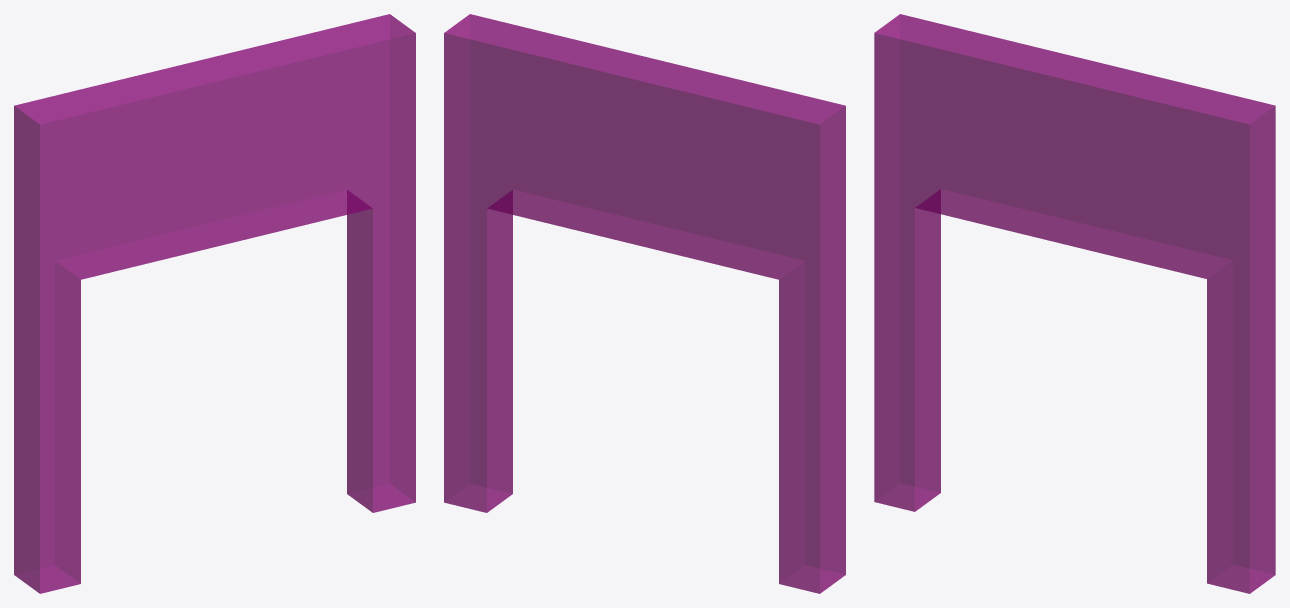
File: SM_Bld_Base_Wall_Door_Double_01_Collision.fbx
3 renders of one model, left to right at view 1: azimuth 30°, elevation 25°; view 2: azimuth 150°, elevation 25°; view 3: azimuth 330°, elevation 25°, orthographic.
Parts seen in each view (by area): view 1: SM_Bld_Base_Wall_Door_Double_01_Collision; view 2: SM_Bld_Base_Wall_Door_Double_01_Collision; view 3: SM_Bld_Base_Wall_Door_Double_01_Collision.
Boxes of the visible parts, <box> form: SM_Bld_Base_Wall_Door_Double_01_Collision: <box>14,14,415,593</box>; SM_Bld_Base_Wall_Door_Double_01_Collision: <box>444,14,845,593</box>; SM_Bld_Base_Wall_Door_Double_01_Collision: <box>874,14,1275,593</box>.
Size of the model in its own units: 252 by 301 by 30.21.
